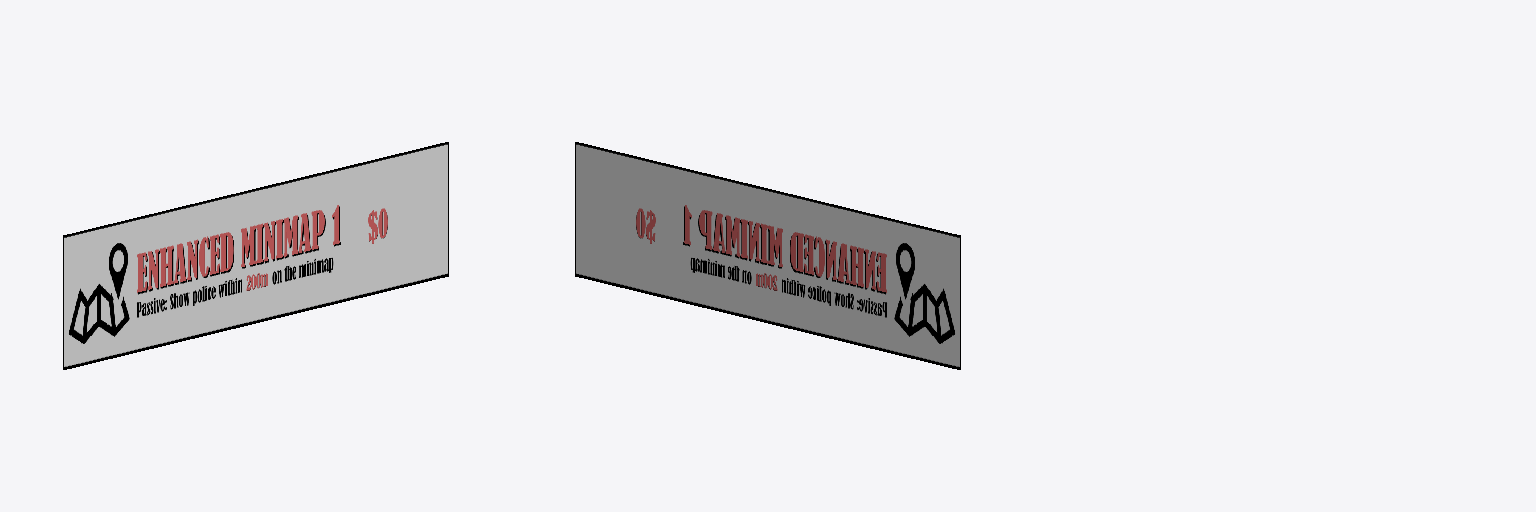
3 views of the same model, side by side, from view 1: azimuth 30°, elevation 25°; view 2: azimuth 150°, elevation 25°; view 3: azimuth 270°, elevation 25° (orthographic).
Visible parts, largest first — view 1: Plane.005; view 2: Plane.005; view 3: none.
Part boxes in pixels (left/top/right/bottom): Plane.005: left=63, top=142, right=448, bottom=369; Plane.005: left=575, top=142, right=960, bottom=369.
Size of the model in its own units: 0.9 by 0.3 by 0.
Materials: 1 (1 with a texture image).